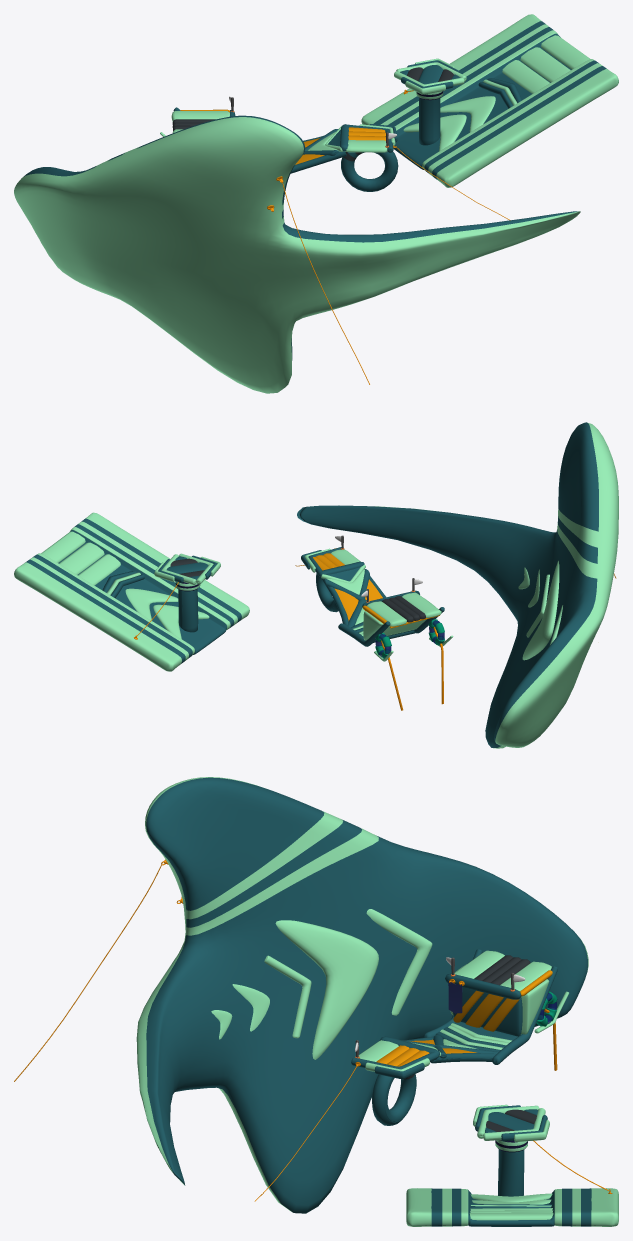
The model's file is StinrayBlock.fbx.
The picture shows the model from 3 angles, top to bottom: view 1: azimuth 30°, elevation 25°; view 2: azimuth 150°, elevation 25°; view 3: azimuth 270°, elevation 25°; orthographic projection. The views are drawn at different scales.
Visible parts, largest first — view 1: pCube185, Floor__35_, pTorus48, polySurface3045, pCube211, pCube213, pCube214, pCube212, pCube210, pCylinder169, pCube180; view 2: pCube185, Floor__35_, pCube215, polySurface3045, pCube211, pCube213, pCube214, pCube212, pCube197, pCube210, pCylinder169, pCube180 (+4 smaller); view 3: pCube185, pCube215, Floor__35_, pCylinder128, pTorus48, polySurface3045, pCube194, pCube180, pCylinder126, pCube197, pCube195, pCylinder129 (+6 smaller).
Part boxes in pixels (x1,y1,x2,y2): pCube185: (14, 115, 580, 393); Floor__35_: (361, 14, 618, 187); pTorus48: (341, 151, 398, 191); polySurface3045: (416, 91, 443, 145); pCube211: (440, 96, 495, 132); pCube213: (520, 47, 570, 82); pCube214: (541, 35, 589, 69); pCube212: (502, 60, 549, 93); pCube210: (403, 114, 466, 151); pCylinder169: (478, 78, 521, 108); pCube180: (407, 65, 453, 84); pCube185: (297, 422, 618, 748); Floor__35_: (14, 512, 249, 671); pCube215: (522, 560, 559, 660); polySurface3045: (175, 581, 200, 632); pCube211: (125, 588, 178, 620); pCube213: (59, 542, 104, 574); pCube214: (41, 531, 85, 562); pCube212: (78, 554, 120, 585); pCube197: (363, 598, 435, 640); pCube210: (153, 604, 209, 639); pCylinder169: (102, 571, 144, 597); pCube180: (166, 558, 208, 576); pCube185: (136, 777, 588, 1213); pCube215: (275, 920, 378, 1059); Floor__35_: (406, 1188, 618, 1226); pCylinder128: (366, 909, 432, 1015); pTorus48: (372, 1074, 416, 1125); polySurface3045: (495, 1140, 527, 1196); pCube194: (453, 987, 522, 1036); pCube180: (486, 1109, 536, 1131); pCylinder126: (264, 955, 311, 1038); pCube197: (450, 964, 549, 1034); pCube195: (445, 973, 521, 999); pCylinder129: (492, 966, 557, 1064).
Bounding box in the file's own units: 6905 × 3806 × 5273.
